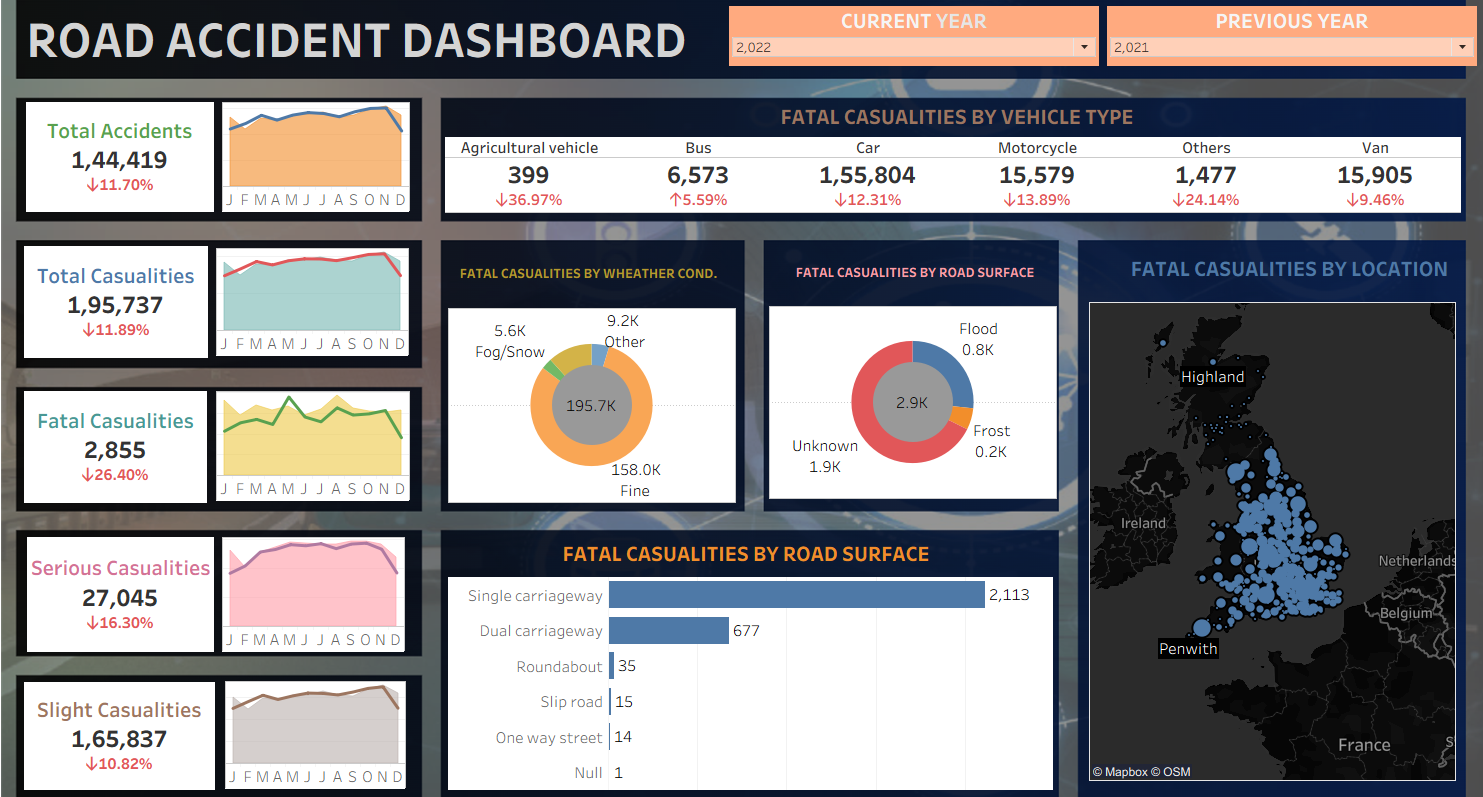

The dashboard page shown, as its layout file describes it:
{"tool":"tableau","page":{"name":"Dashboard 1","canvas":[1600,900],"ordinal":0},"visuals":[{"type":"image","param":"C:/Users/gargi/OneDrive/Pictures/Screenshots/Screenshot 2026-01-10 235310.png","box":[8,8,1584,884]},{"type":"parameter","param":"[Parameters].[Parameter 1]","box":[780,28,388,71]},{"type":"parameter","param":"[Parameters].[current year (copy)_1469580878355918850]","box":[1168,28,388,71]},{"type":"text","box":[39,32,753,67]},{"type":"worksheet","title":"TOTAL ACCIDENTS","mark":"Automatic","box":[33,129,209,122]},{"type":"worksheet","title":"TOTAL_ACCIDENTS","mark":"Area","rows":["Calculation_1469580878363332612","Calculation_1469580878356926467"],"cols":["Accident Date"],"box":[242,129,209,122]},{"type":"text","box":[485,133,1067,30]},{"type":"worksheet","title":"FATAL CASUALITES BY VEHICLE TYPE","mark":"Automatic","box":[489,168,1067,78]},{"type":"text","box":[484,283,313,62]},{"type":"worksheet","title":"TOTAL_CASUALITIES","mark":"Area","rows":["Calculation_1038361214394331138","Calculation_857935754264313856"],"cols":["Accident Date"],"box":[241,285,210,116]},{"type":"worksheet","title":"TOTAL CASUALITIES","mark":"Automatic","box":[37,286,197,114]},{"type":"text","box":[1158,286,403,45]},{"type":"text","box":[826,290,299,46]},{"type":"worksheet","title":"FATAL CASUALITES BY ROAD SURFACE","mark":"Pie","rows":["Calculation_826692032613302279","Calculation_826692032613339145"],"box":[828,349,295,204]},{"type":"worksheet","title":"FATAL CASUALITIES BY WEATHER CONDITION","mark":"Pie","rows":["Calculation_826692032609746947","Calculation_826692032609783813"],"box":[486,352,306,202]},{"type":"worksheet","title":"FATAL CASUALITIES BY LOCATION","mark":"Automatic","rows":["Latitude"],"cols":["Longitude"],"box":[1164,358,391,495]},{"type":"worksheet","title":"FATAL CASUALITIES","mark":"Automatic","box":[35,439,198,115]},{"type":"worksheet","title":"FATAL_CASUALITES","mark":"Area","rows":["Calculation_719450066077220864","Calculation_857935754277285889"],"cols":["Accident Date"],"box":[241,439,211,115]},{"type":"worksheet","title":"SERIOUS CASUALITIES","mark":"Automatic","box":[30,587,209,128]},{"type":"worksheet","title":"SERIOUS_CASUALITES","mark":"Area","rows":["Calculation_719450066078609410","Calculation_857935754283888642"],"cols":["Accident Date"],"box":[239,587,216,128]},{"type":"text","box":[493,592,617,37]},{"type":"worksheet","title":"FATAL  CASUALITIES BY ROAD SURFACE","mark":"Automatic","rows":["Road_Type"],"cols":["Calculation_857935754277285889"],"box":[487,636,639,222]},{"type":"worksheet","title":"SLIGTH_CASUALITIES","mark":"Automatic","rows":["Calculation_719450066079686660","Calculation_857935754284167171"],"cols":["Accident Date"],"box":[243,746,210,114]},{"type":"worksheet","title":"SLIGHT CASUALITIES","mark":"Automatic","box":[36,747,202,113]}]}

Visuals, with their boxes in screenshot pixels (x1, y1, x2, y2):
image: 0/0/1480/796
parameter: 719/0/1083/62
parameter: 1083/0/1446/62
text: 25/0/731/62
"TOTAL ACCIDENTS" worksheet: 19/90/215/204
"TOTAL_ACCIDENTS" worksheet (Area marks): 215/90/411/204
text: 443/94/1443/122
"FATAL CASUALITES BY VEHICLE TYPE" worksheet: 447/127/1446/200
text: 442/234/735/292
"TOTAL_CASUALITIES" worksheet (Area marks): 214/236/411/345
"TOTAL CASUALITIES" worksheet: 23/237/208/344
text: 1073/237/1451/279
text: 762/241/1043/284
"FATAL CASUALITES BY ROAD SURFACE" worksheet (Pie marks): 764/296/1041/487
"FATAL CASUALITIES BY WEATHER CONDITION" worksheet (Pie marks): 444/299/731/488
"FATAL CASUALITIES BY LOCATION" worksheet: 1079/305/1445/768
"FATAL CASUALITIES" worksheet: 21/380/207/488
"FATAL_CASUALITES" worksheet (Area marks): 214/380/412/488
"SERIOUS CASUALITIES" worksheet: 17/519/212/639
"SERIOUS_CASUALITES" worksheet (Area marks): 212/519/415/639
text: 450/524/1028/558
"FATAL  CASUALITIES BY ROAD SURFACE" worksheet: 445/565/1043/773
"SLIGTH_CASUALITIES" worksheet: 216/668/413/775
"SLIGHT CASUALITIES" worksheet: 22/669/211/775
